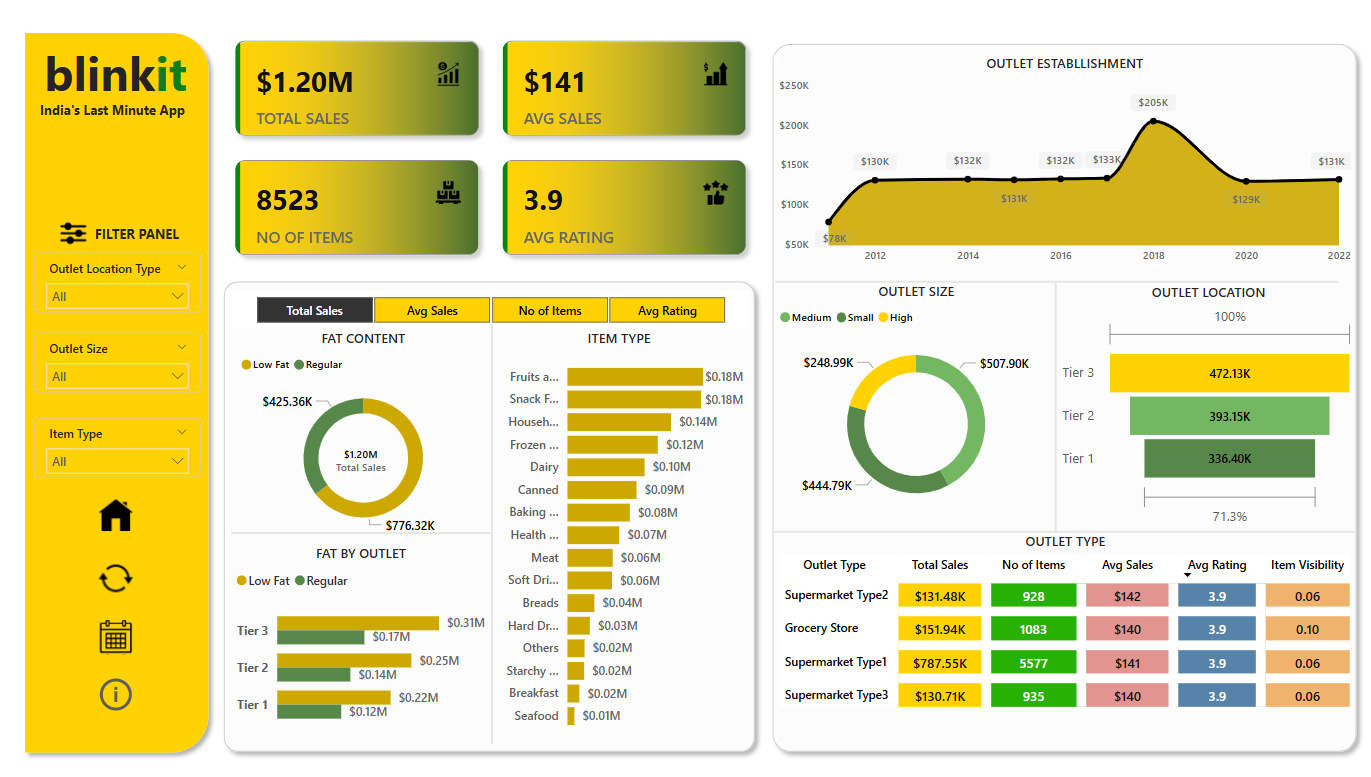

The dashboard page shown, as its layout file describes it:
{"tool":"powerbi","page":{"name":"Page 1","canvas":[1400,800],"ordinal":0},"visuals":[{"type":"shape","box":[16.5,25.4,204.8,750.4],"z":0},{"type":"textbox","box":[26.7,36.9,184.4,101.7],"z":1000},{"type":"textbox","box":[35.8,99.3,166.3,27.7],"z":2000},{"type":"cardVisual","fields":{"Data":["BlinkIT Grocery Data.Toatal Sales","BlinkIT Grocery Data.Avg Sales","BlinkIT Grocery Data.No of Items","BlinkIT Grocery Data.Avg Rating"]},"box":[222,25,555.5,253.5],"z":3000},{"type":"shape","box":[219.3,278.4,558.2,496.4],"z":4000},{"type":"donutChart","title":"FAT CONTENT","fields":{"Y":["BlinkIT Grocery Data.Total Sales"],"Category":["BlinkIT Grocery Data.Item Fat Content"]},"box":[240.3,336.2,258.7,218],"z":5000},{"type":"slicer","fields":{"Values":["Metrics.Metrics"]},"box":[235.1,296.8,526.6,39.4],"z":6000},{"type":"cardVisual","fields":{"Data":["BlinkIT Grocery Data.Total Sales"]},"box":[291.6,434.7,152.3,68.3],"z":7000},{"type":"clusteredBarChart","title":"FAT BY OUTLET","fields":{"Y":["BlinkIT Grocery Data.Total Sales"],"Category":["BlinkIT Grocery Data.Outlet Location Type"],"Series":["BlinkIT Grocery Data.Item Fat Content"]},"box":[235.1,554.2,264,199.6],"z":8000},{"type":"shape","box":[476.7,331,47.3,428.1],"z":9000},{"type":"shape","box":[235.1,533.2,264,21],"z":10000},{"type":"clusteredBarChart","title":"ITEM TYPE","fields":{"Category":["BlinkIT Grocery Data.Item Type"],"Y":["BlinkIT Grocery Data.Total Sales"]},"box":[499.1,336.2,262.7,417.6],"z":11000},{"type":"shape","box":[777.5,36.8,612,738.1],"z":12000},{"type":"lineChart","title":"OUTLET ESTABLLISHMENT","fields":{"Category":["BlinkIT Grocery Data.Outlet Establishment Year"],"Y":["BlinkIT Grocery Data.Total Sales"]},"box":[786.7,56.5,592.3,222],"z":13000},{"type":"shape","box":[786.7,533.2,592.3,18.4],"z":14000},{"type":"donutChart","title":"OUTLET SIZE","fields":{"Y":["BlinkIT Grocery Data.Total Sales"],"Category":["BlinkIT Grocery Data.Outlet Size"]},"box":[788,287.6,287.6,245.6],"z":15000},{"type":"shape","box":[1050.7,287.6,47.3,256.1],"z":16000},{"type":"shape","box":[788,278.4,572.6,18.4],"z":17000},{"type":"pieChart","title":"OUTLET LOCATION","fields":{"Category":["BlinkIT Grocery Data.Outlet Location Type"],"Y":["Sum(BlinkIT Grocery Data.Sales)"]},"box":[1075.6,288.9,307.3,253.5],"z":18000},{"type":"pivotTable","title":"OUTLET TYPE","fields":{"Values":["BlinkIT Grocery Data.Total Sales","BlinkIT Grocery Data.No of Items","BlinkIT Grocery Data.Avg Sales","BlinkIT Grocery Data.Avg Rating","Avg(BlinkIT Grocery Data.Item Visibility)"],"Rows":["BlinkIT Grocery Data.Outlet Type"]},"box":[788,542.4,591,211.4],"z":19000},{"type":"slicer","fields":{"Values":["BlinkIT Grocery Data.Outlet Location Type"]},"box":[34.1,258.7,170.7,60.4],"z":20000},{"type":"slicer","fields":{"Values":["BlinkIT Grocery Data.Outlet Size"]},"box":[34.1,340.2,170.7,60.4],"z":21000},{"type":"slicer","fields":{"Values":["BlinkIT Grocery Data.Item Type"]},"box":[34.1,425.5,170.7,60.4],"z":22000},{"type":"actionButton","box":[91.9,501.7,52.5,49.9],"z":22500},{"type":"textbox","box":[91.9,224.6,112.9,28.9],"z":23000},{"type":"actionButton","box":[91.9,564.7,52.5,49.9],"z":25000},{"type":"actionButton","box":[91.9,623.8,52.5,49.9],"z":26000},{"type":"actionButton","box":[91.9,682.9,52.5,49.9],"z":27000},{"type":"actionButton","box":[48.6,214.1,52.5,49.9],"z":28000}]}

Visuals, with their boxes in screenshot pixels (x1, y1, x2, y2), scaled from the page's 1400x800 canvas onto the 1371x777 screenshot:
shape: locate(16, 25, 217, 753)
textbox: locate(26, 36, 207, 135)
textbox: locate(35, 96, 198, 123)
cardVisual - BlinkIT Grocery Data.Toatal Sales x BlinkIT Grocery Data.Avg Sales: locate(217, 24, 761, 270)
shape: locate(215, 270, 761, 753)
"FAT CONTENT" donutChart: locate(235, 327, 489, 538)
slicer - Metrics.Metrics: locate(230, 288, 746, 327)
cardVisual - BlinkIT Grocery Data.Total Sales: locate(286, 422, 435, 489)
"FAT BY OUTLET" clusteredBarChart: locate(230, 538, 489, 732)
shape: locate(467, 321, 513, 737)
shape: locate(230, 518, 489, 538)
"ITEM TYPE" clusteredBarChart: locate(489, 327, 746, 732)
shape: locate(761, 36, 1361, 753)
"OUTLET ESTABLLISHMENT" lineChart: locate(770, 55, 1350, 270)
shape: locate(770, 518, 1350, 536)
"OUTLET SIZE" donutChart: locate(772, 279, 1053, 518)
shape: locate(1029, 279, 1075, 528)
shape: locate(772, 270, 1332, 288)
"OUTLET LOCATION" pieChart: locate(1053, 281, 1354, 527)
"OUTLET TYPE" pivotTable: locate(772, 527, 1350, 732)
slicer - BlinkIT Grocery Data.Outlet Location Type: locate(33, 251, 201, 310)
slicer - BlinkIT Grocery Data.Outlet Size: locate(33, 330, 201, 389)
slicer - BlinkIT Grocery Data.Item Type: locate(33, 413, 201, 472)
actionButton: locate(90, 487, 141, 536)
textbox: locate(90, 218, 201, 246)
actionButton: locate(90, 548, 141, 597)
actionButton: locate(90, 606, 141, 654)
actionButton: locate(90, 663, 141, 712)
actionButton: locate(48, 208, 99, 256)
